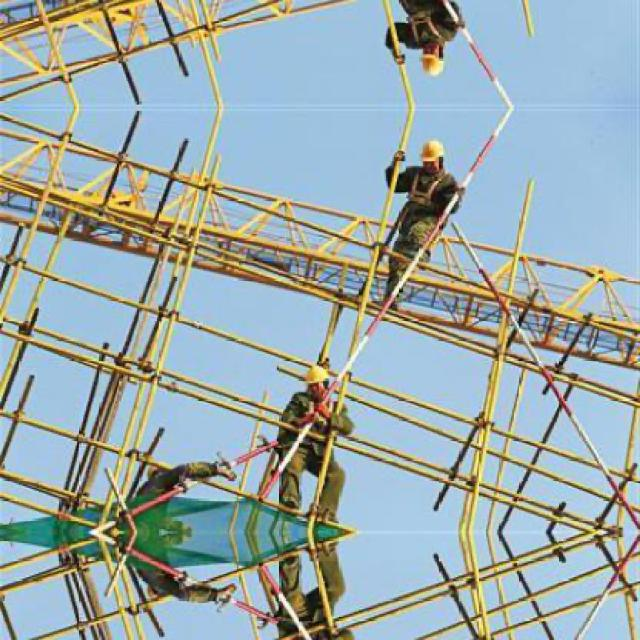con casco: (298, 352, 360, 430), (395, 127, 453, 201)
